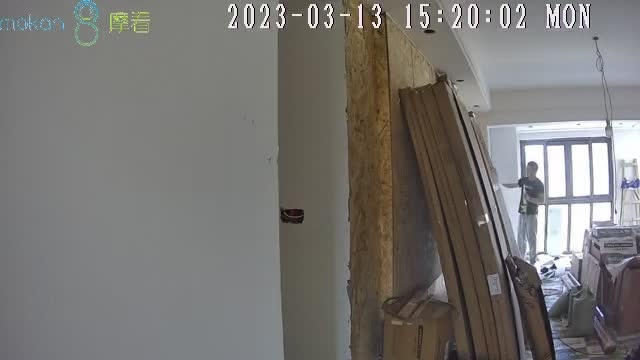people: (502, 162, 545, 265)
window: (522, 140, 615, 254)
